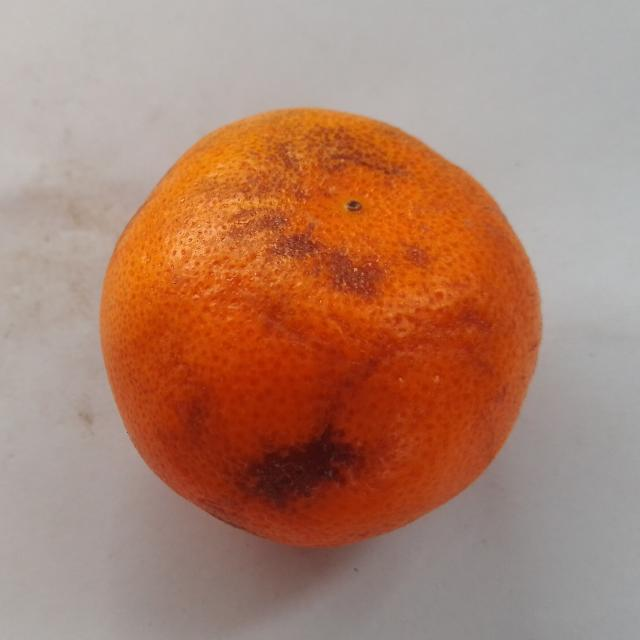orange: (101, 109, 540, 546)
